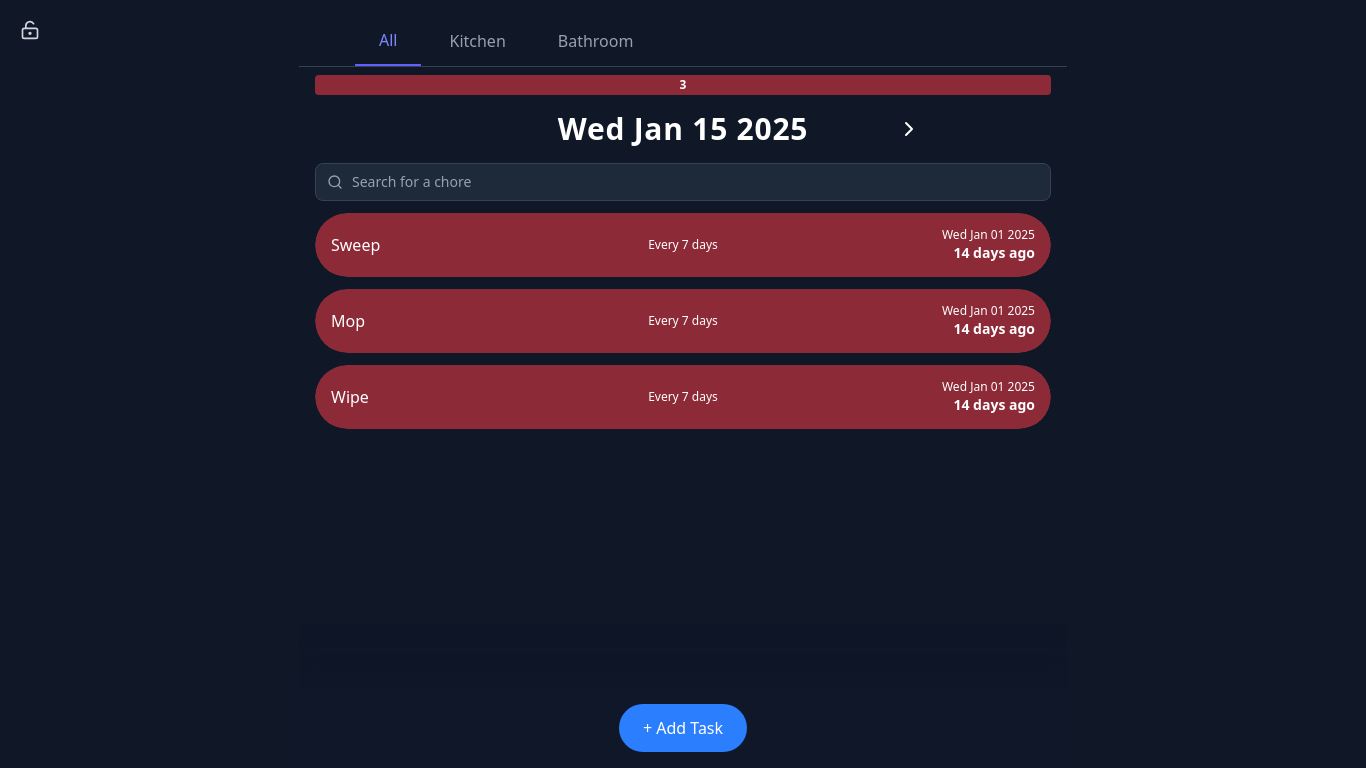
Test case: chore-name search filter (F9) › filters visible chores by case-insensitive substring on name
The image size is (1366, 768).
expect the text "Sweep" is shown: met, box [331,234,380,256]
# Upper-case query matches lower-case content → case-insensitive
In the field with placeholder "Search for a chore": (683, 182) [315,163,1051,201], type "WIP"
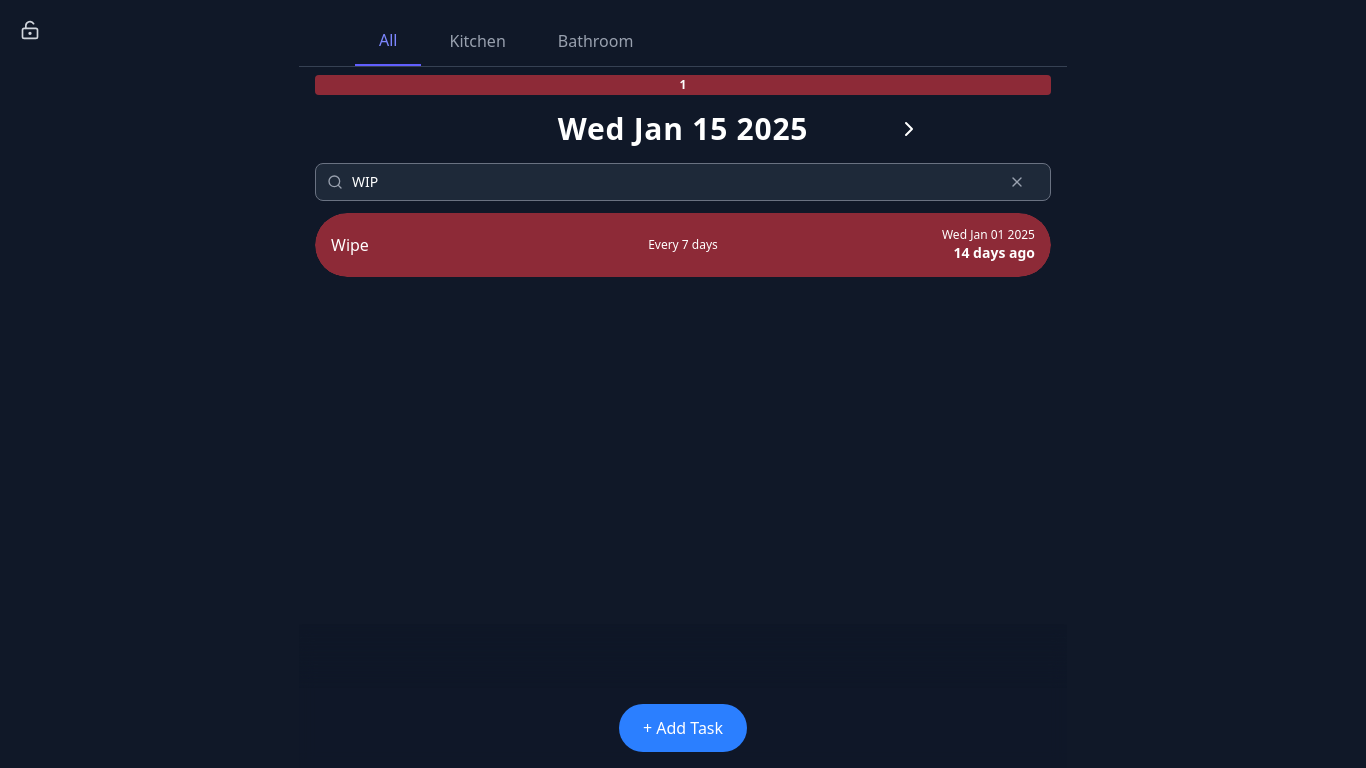
expect the text "Wipe" is shown: met, box [331,234,369,256]
expect the text "Sweep" is gone: met
expect the text "Mop" is gone: met
